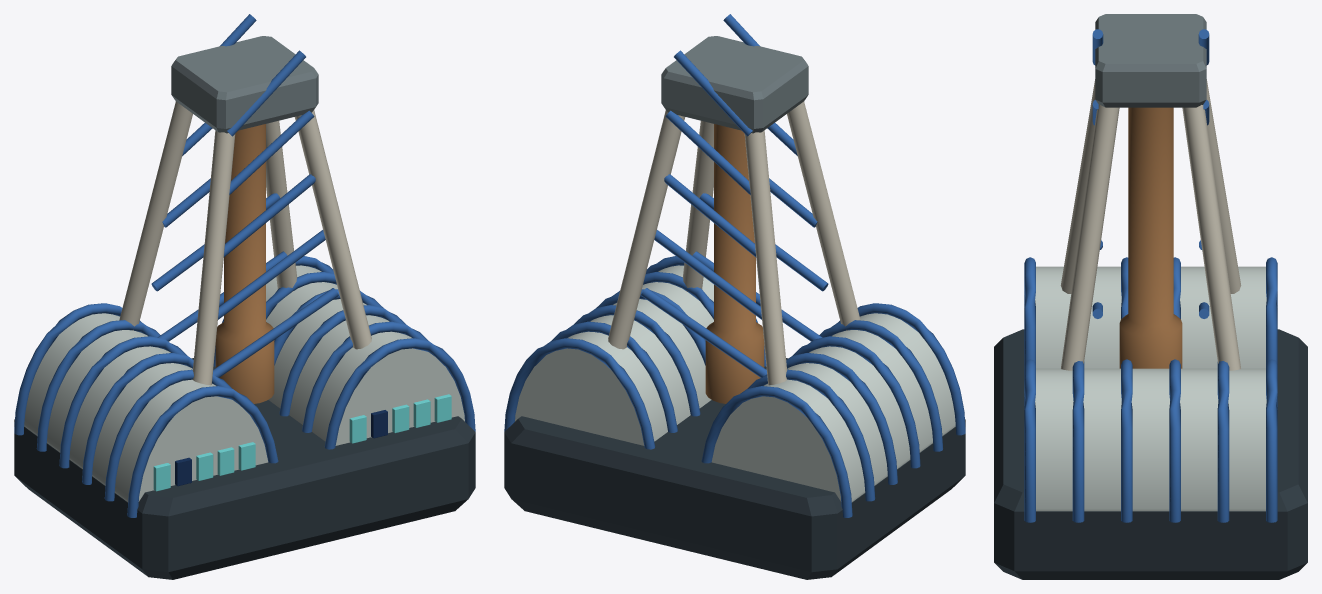
The model's file is cryo_borehead.glb.
The picture shows the model from 3 angles, left to right: view 1: azimuth 30°, elevation 25°; view 2: azimuth 150°, elevation 25°; view 3: azimuth 270°, elevation 25°; orthographic projection. The views are drawn at different scales.
Visible parts, largest first — view 1: cryo_borehead; view 2: cryo_borehead; view 3: cryo_borehead.
Part boxes in pixels (x1,y1,x2,y2): cryo_borehead: (14,14,475,579); cryo_borehead: (504,14,965,579); cryo_borehead: (994,14,1307,579).
Size of the model in its own units: 17.72 by 22.16 by 13.
